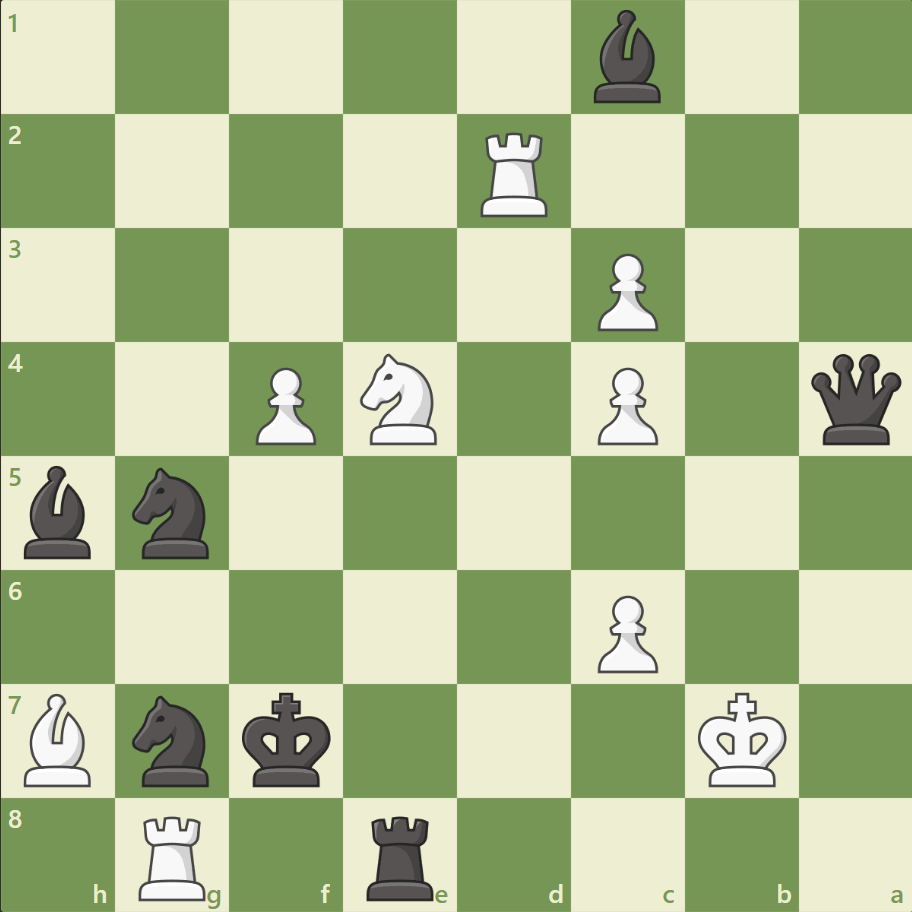B: (17, 687, 101, 790)
K: (692, 685, 792, 793)
N: (351, 348, 449, 450)
P: (247, 359, 322, 450), (588, 586, 662, 677), (588, 359, 662, 450), (588, 246, 662, 337)
R: (473, 125, 556, 222), (133, 806, 215, 904)
b: (17, 460, 101, 563), (585, 6, 669, 109)
k: (238, 685, 338, 793)
n: (124, 688, 222, 791), (124, 461, 222, 564)
q: (805, 349, 904, 449)
r: (360, 806, 442, 904)
